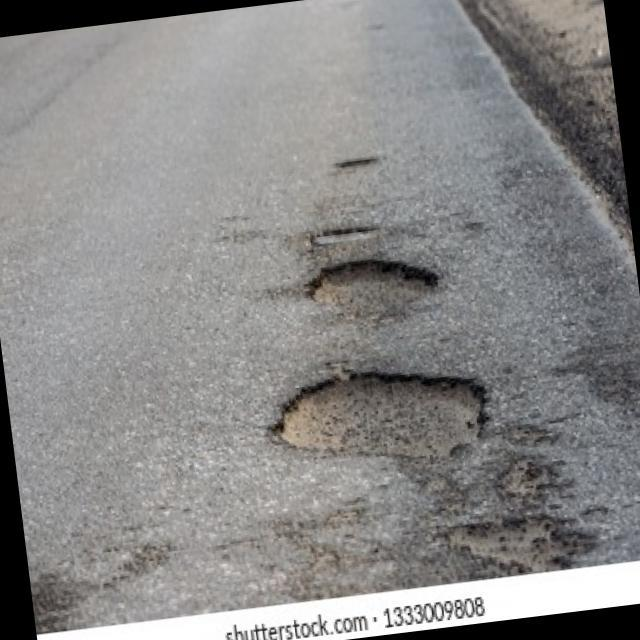Pothole: (267, 352, 494, 480), (302, 248, 443, 324), (308, 220, 382, 248), (334, 156, 374, 170)
